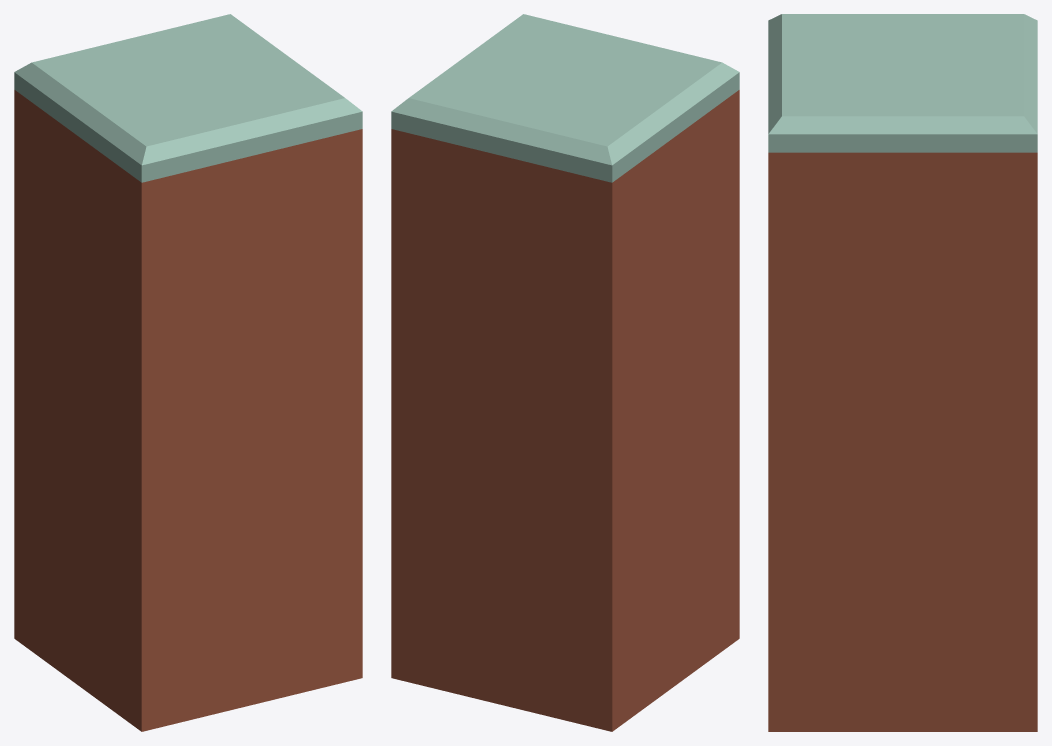
The model's file is Tile1.fbx.
The picture shows the model from 3 angles, left to right: view 1: azimuth 30°, elevation 25°; view 2: azimuth 150°, elevation 25°; view 3: azimuth 270°, elevation 25°; orthographic projection. The views are drawn at different scales.
Parts seen in each view (by area): view 1: Cube; view 2: Cube; view 3: Cube.
Part boxes in pixels (left/top/right/bottom): Cube: left=14, top=14, right=362, bottom=731; Cube: left=391, top=14, right=739, bottom=731; Cube: left=768, top=14, right=1037, bottom=731.
Bounding box in the file's own units: 2 × 5 × 2.
